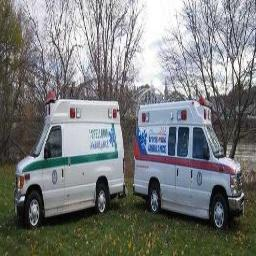ambulance: (14, 92, 124, 227), (133, 98, 243, 228)
